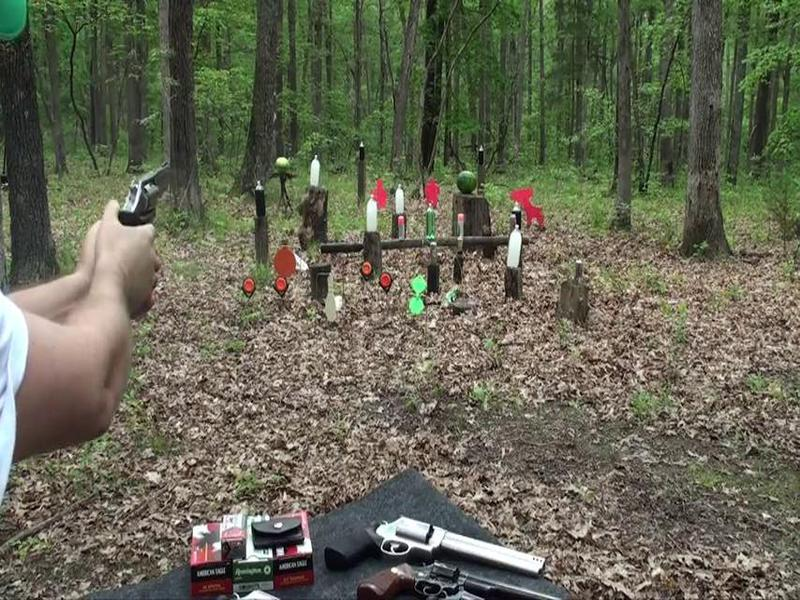Revolver: (113, 144, 175, 245)
